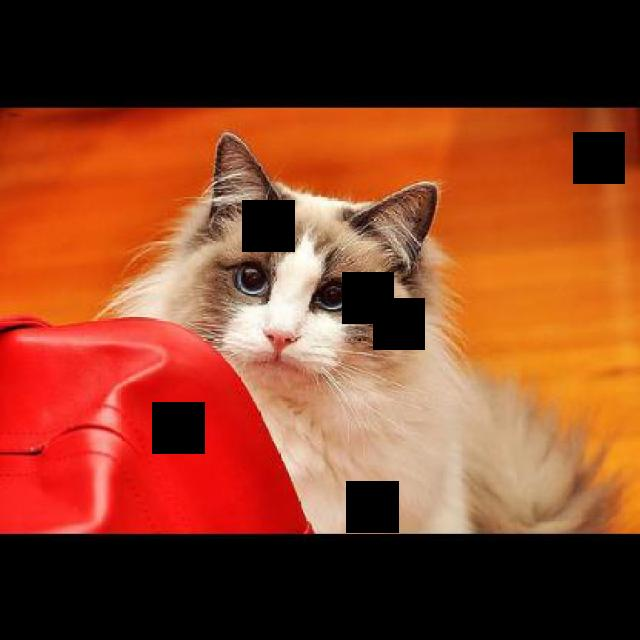unauthorized: (92, 129, 623, 534)
